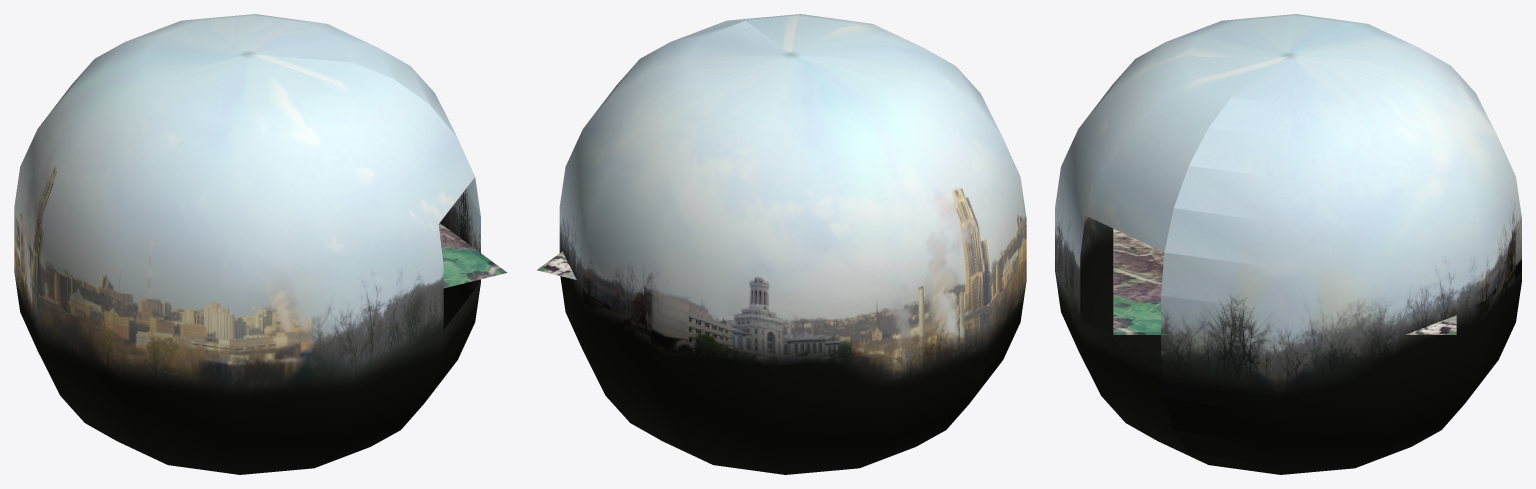
File: campus.gltf
3 views of the same model, side by side, from view 1: azimuth 30°, elevation 25°; view 2: azimuth 150°, elevation 25°; view 3: azimuth 270°, elevation 25° (orthographic).
Parts seen in each view (by area): view 1: ChamferCyl, Plane; view 2: ChamferCyl, Plane; view 3: ChamferCyl, Plane.
Part boxes in pixels (x1,y1,x2,y2): ChamferCyl: (14, 14, 480, 474); Plane: (438, 223, 507, 288); ChamferCyl: (559, 14, 1026, 474); Plane: (537, 251, 576, 279); ChamferCyl: (1055, 14, 1521, 474); Plane: (1113, 228, 1456, 334).
Size of the model in its own units: 469 by 421 by 469.
Materials: 17 (17 with a texture image).
